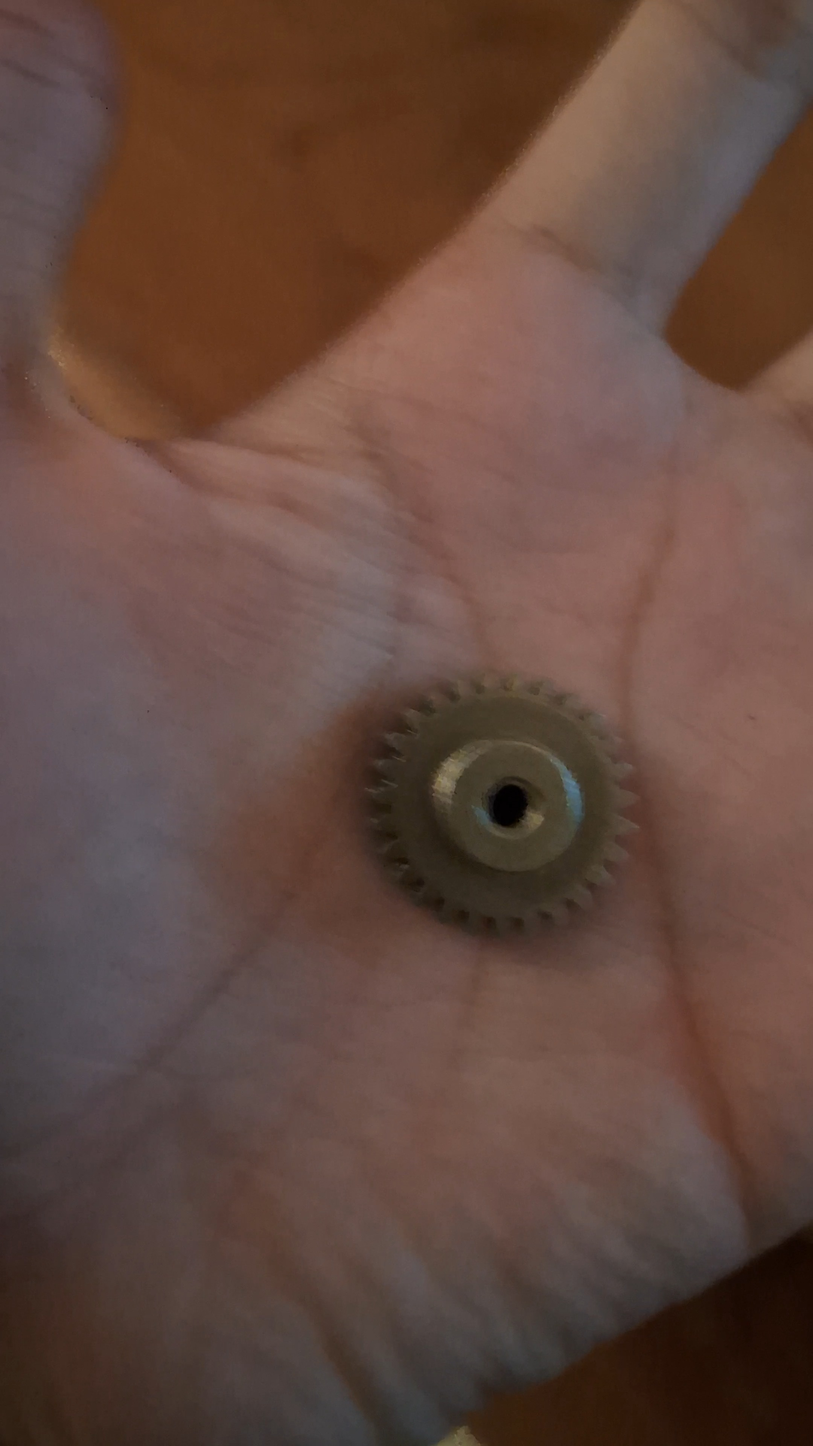spur gear: (370, 679, 635, 933)
